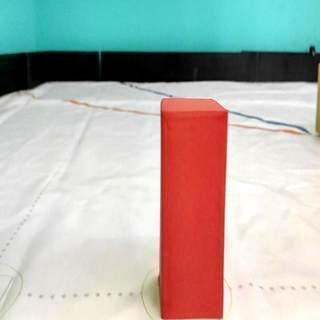redbox: (160, 98, 225, 319)
